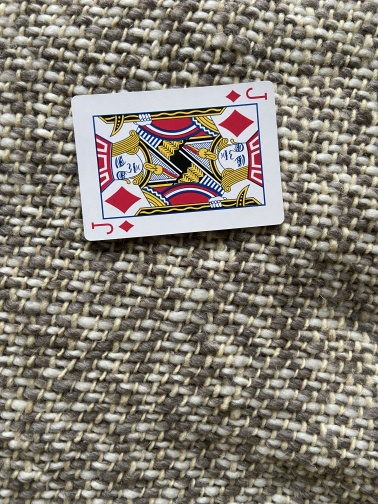jack: (70, 79, 286, 243)
